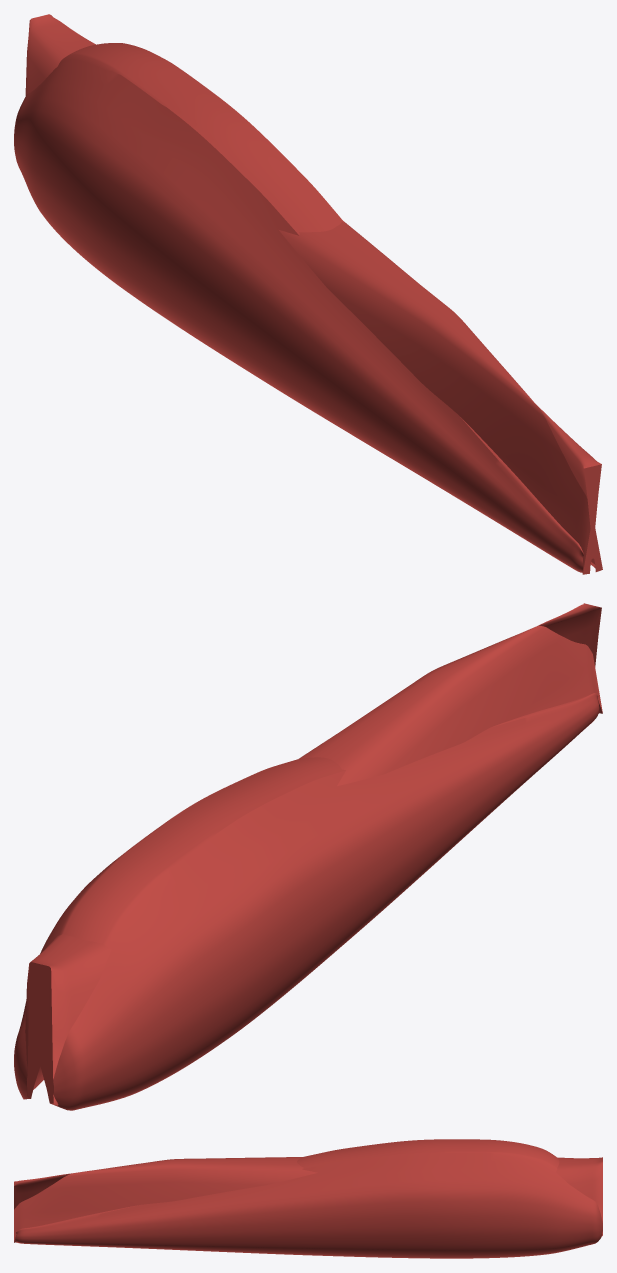
The model's file is chopper_3.glb.
3 renders of one model, top to bottom at view 1: azimuth 30°, elevation 25°; view 2: azimuth 150°, elevation 25°; view 3: azimuth 270°, elevation 25°, orthographic. The views are drawn at different scales.
Parts seen in each view (by area): view 1: lod0; view 2: lod0; view 3: lod0.
Boxes of the visible parts, x1,y1,x2,y2 form: lod0: [14, 14, 602, 574]; lod0: [14, 603, 602, 1110]; lod0: [14, 1139, 602, 1258].
Size of what is drawn, in the model's own units: 0.1678 by 0.2005 by 1.06.
